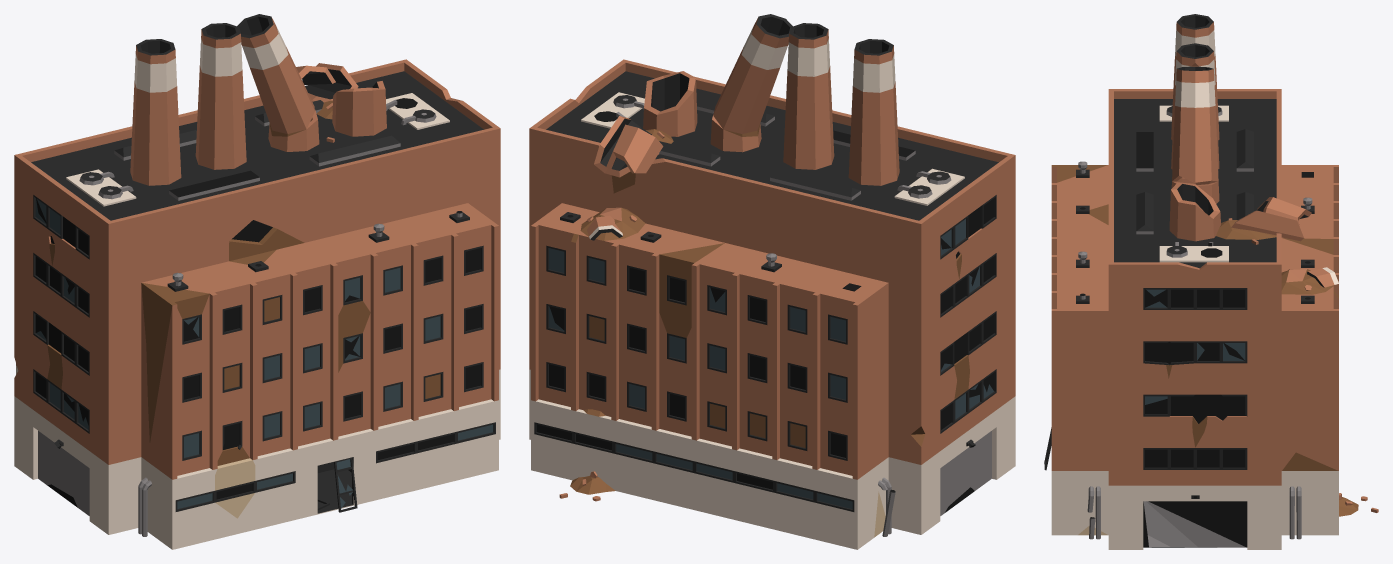
File: apocalypse_industry-factory-apocalypse.fbx
The picture shows the model from 3 angles, left to right: view 1: azimuth 30°, elevation 25°; view 2: azimuth 150°, elevation 25°; view 3: azimuth 270°, elevation 25°; orthographic projection. The views are drawn at different scales.
Parts seen in each view (by area): view 1: apocalypse_industry_factory_apocalypse; view 2: apocalypse_industry_factory_apocalypse; view 3: apocalypse_industry_factory_apocalypse.
Boxes of the visible parts, x1=… form: apocalypse_industry_factory_apocalypse: x1=14, y1=14, x2=500, y2=549; apocalypse_industry_factory_apocalypse: x1=529, y1=14, x2=1015, y2=549; apocalypse_industry_factory_apocalypse: x1=1044, y1=14, x2=1378, y2=549.
Bounding box in the file's own units: 195 × 200 × 152.
